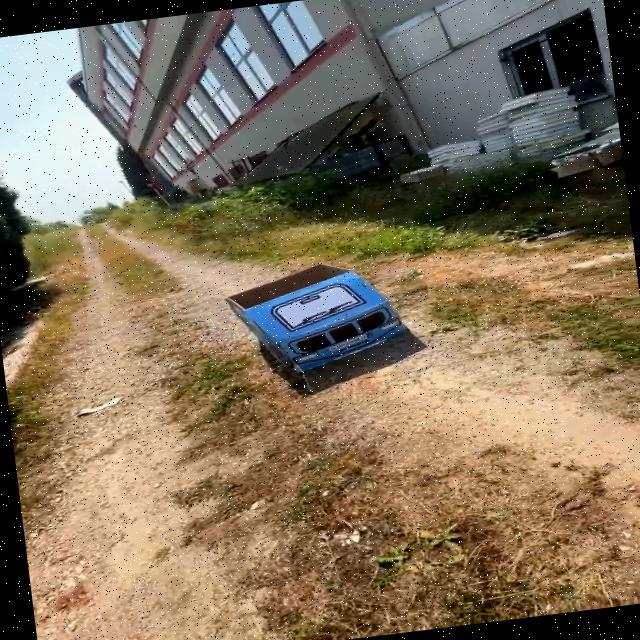blue_car: (201, 233, 434, 404)
